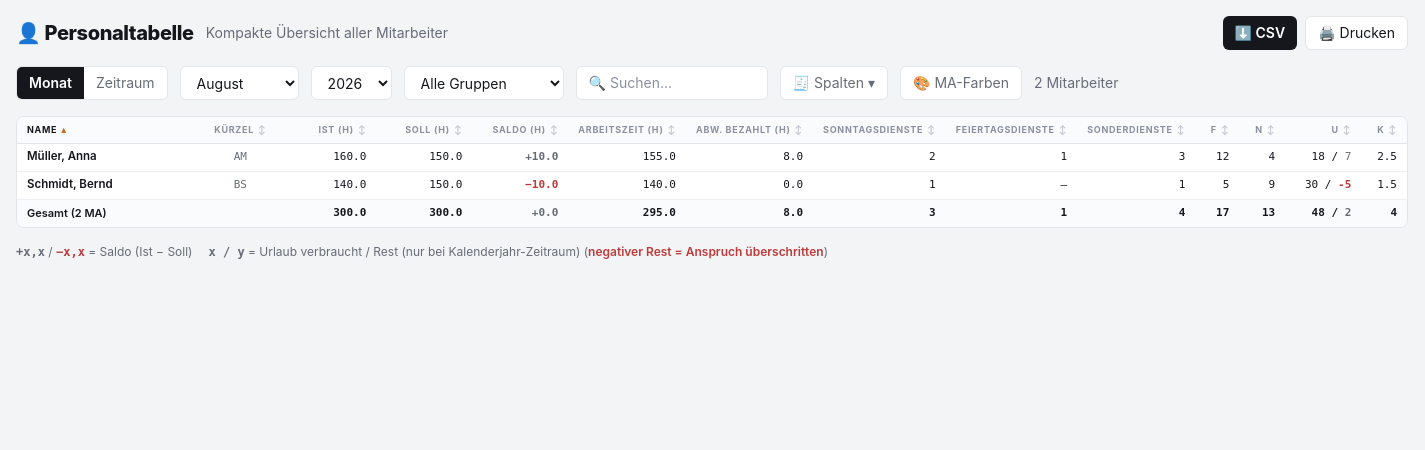
Test: Personaltabelle — Spaltenauswahl (Spec 4.11.12-1) › Spalte abwählen: Kopf und Zellen verschwinden, erneut anwählen bringt sie zurück
Expected: the text "Müller, Anna" is shown, [17,143,200,171]
What coordinates should you click on to do the following:
click the button "🧾 Spalten ▾"
I would click on:
 (834, 83)
Its box is [780,66,888,100].
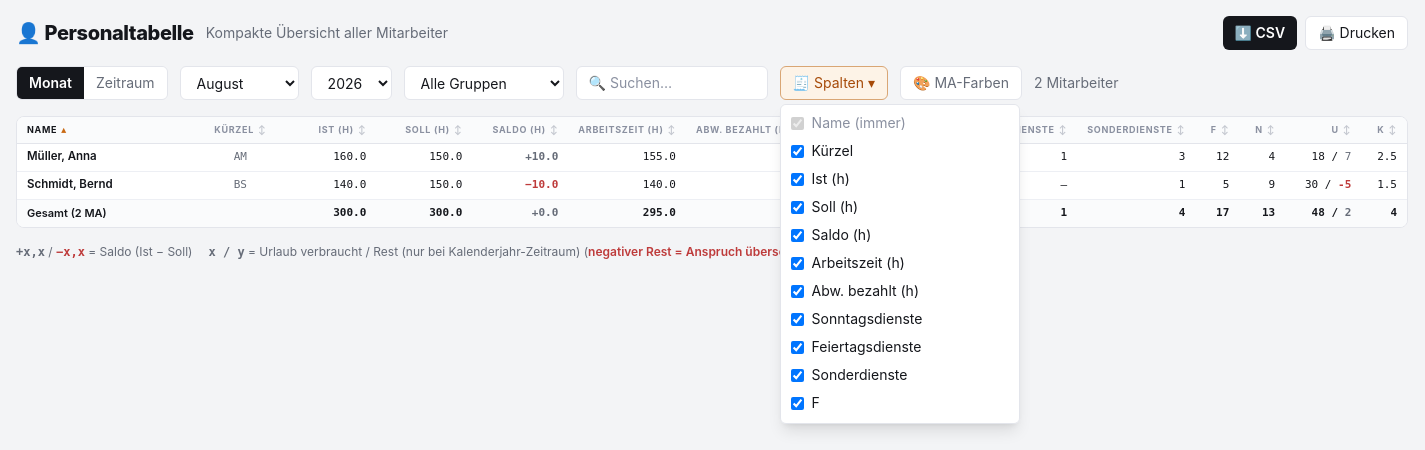
Schichtart-Spalte „F" (Frühdienst) abwählen
What coordinates should you click on to do the following:
click the checkbox labelled "F"
I would click on:
 (797, 403)
Its box is [791,396,804,410].
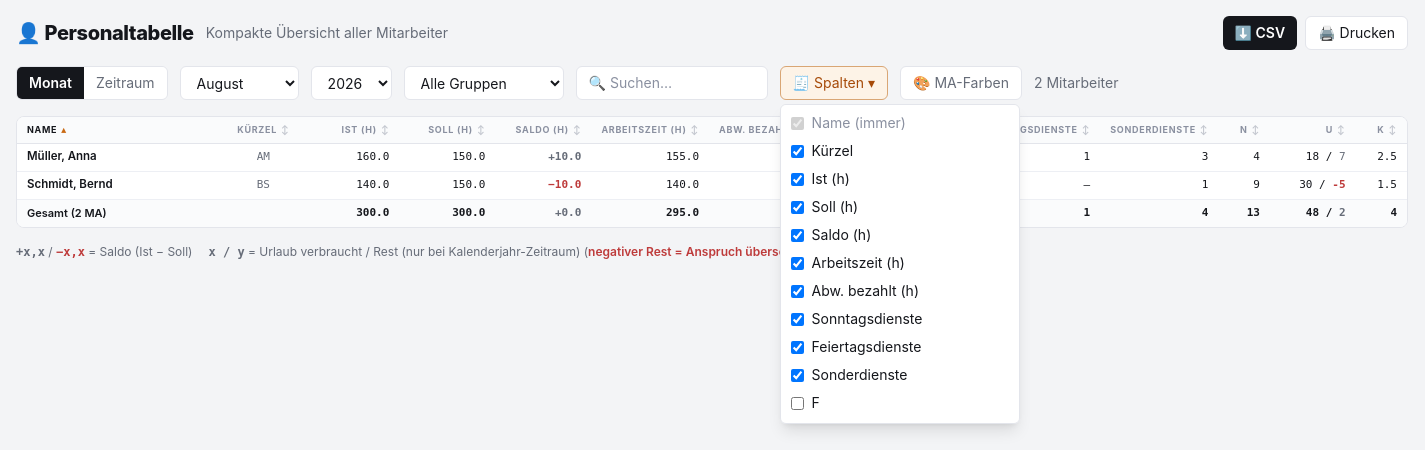
Expected: the column heading "F↕" is gone
Expected: the text "12" is gone
Expected: the text "17" is gone
wieder anwählen → Spalte kehrt zurück
What coordinates should you click on to do the following:
click the checkbox labelled "F"
I would click on:
 (797, 403)
Its box is [791,396,804,410].
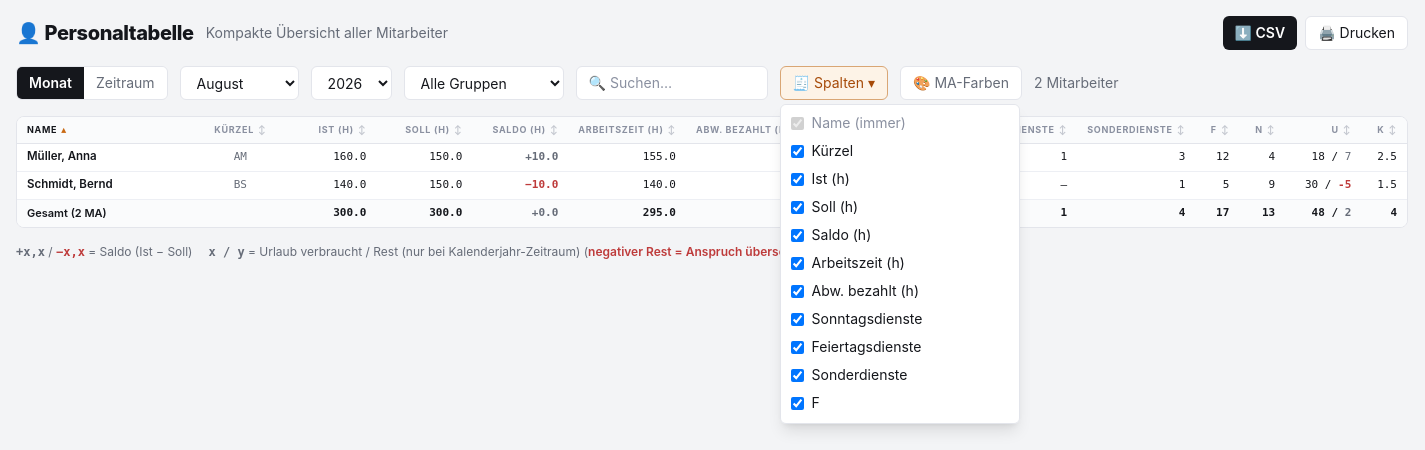
Expected: the column heading titled "Frühdienst" is shown, [1195,117,1239,143]
Expected: the text "12" is shown, [1195,143,1239,171]
